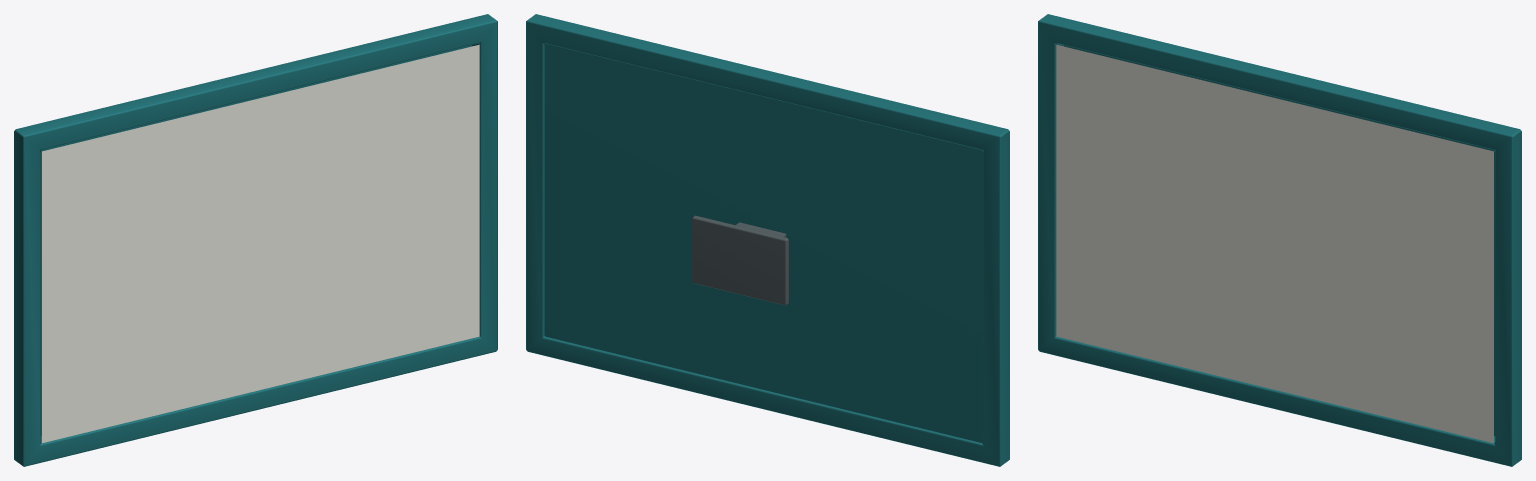
File: VLAB_lesson_panel.fbx
The picture shows the model from 3 angles, left to right: view 1: azimuth 30°, elevation 25°; view 2: azimuth 150°, elevation 25°; view 3: azimuth 330°, elevation 25°; orthographic projection.
Visible parts, largest first — view 1: VLAB_lesson_panel_ScreenSurface_VIS, VLAB_lesson_panel_Frame_VIS; view 2: VLAB_lesson_panel_Frame_VIS, VLAB_lesson_panel_Mount_VIS; view 3: VLAB_lesson_panel_ScreenSurface_VIS, VLAB_lesson_panel_Frame_VIS.
Part boxes in pixels (x1,y1,x2,y2): VLAB_lesson_panel_ScreenSurface_VIS: (42, 44, 479, 443); VLAB_lesson_panel_Frame_VIS: (14, 14, 497, 466); VLAB_lesson_panel_Frame_VIS: (526, 14, 1009, 466); VLAB_lesson_panel_Mount_VIS: (692, 215, 788, 305); VLAB_lesson_panel_ScreenSurface_VIS: (1056, 44, 1493, 443); VLAB_lesson_panel_Frame_VIS: (1038, 14, 1521, 466).
Size of the model in its own units: 0.6 by 0.4 by 0.075.
